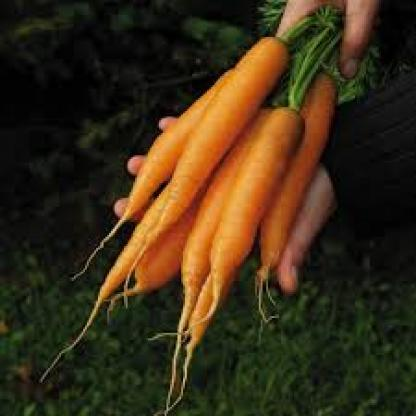Disposable tableware: (7, 2, 416, 416)
